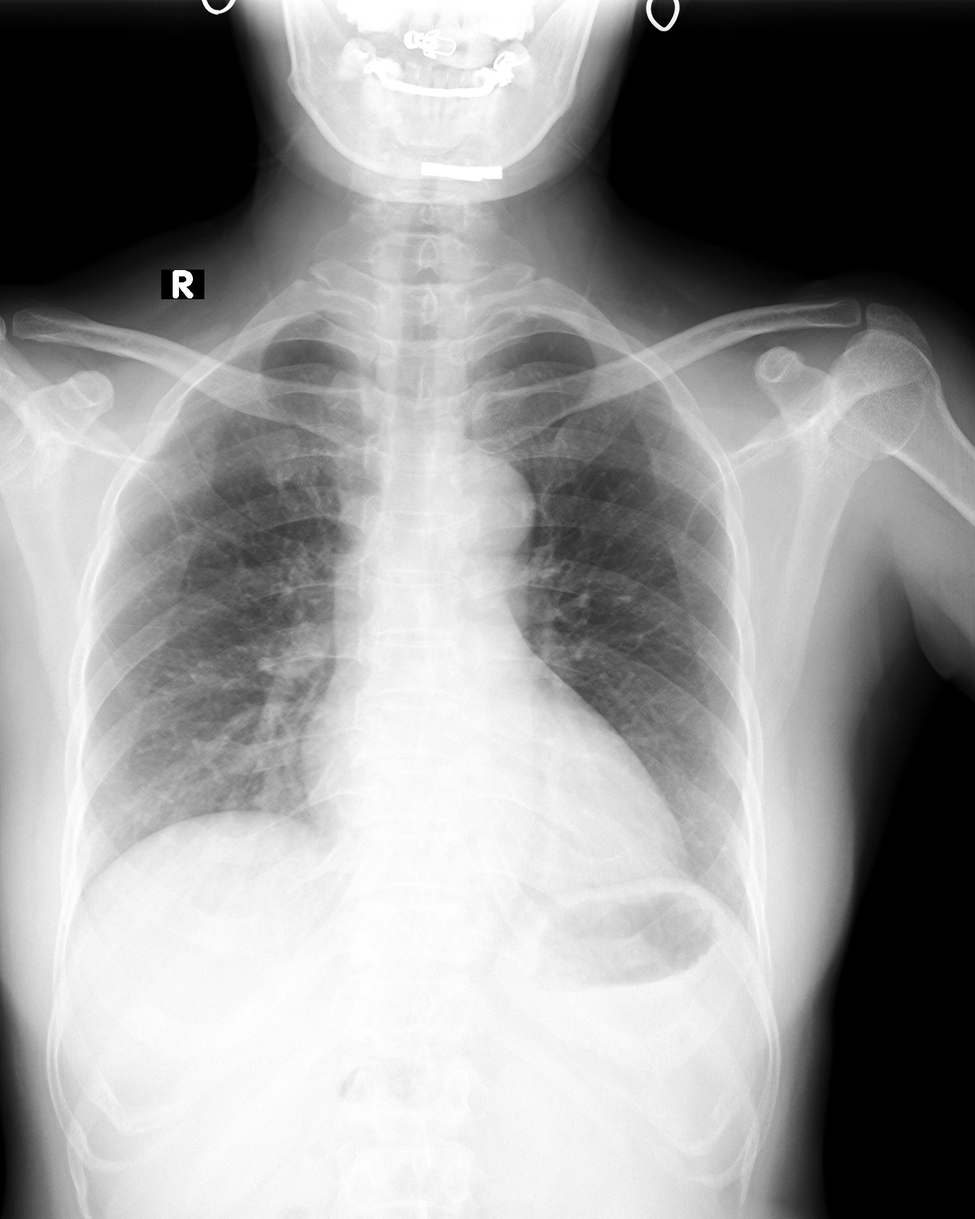Aortic enlargement: (413, 449, 542, 578)
Cardiomegaly: (297, 736, 692, 896)
